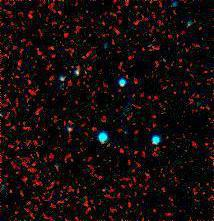star: (133, 160, 163, 190)
